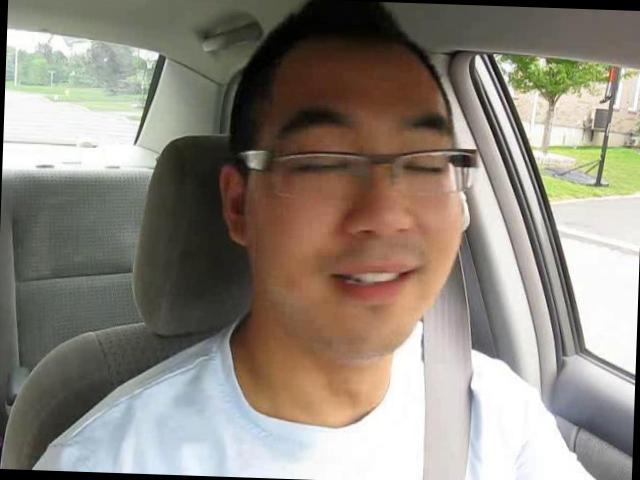eye_closed: (284, 146, 354, 188), (399, 156, 452, 186)
face: (249, 88, 472, 365)
